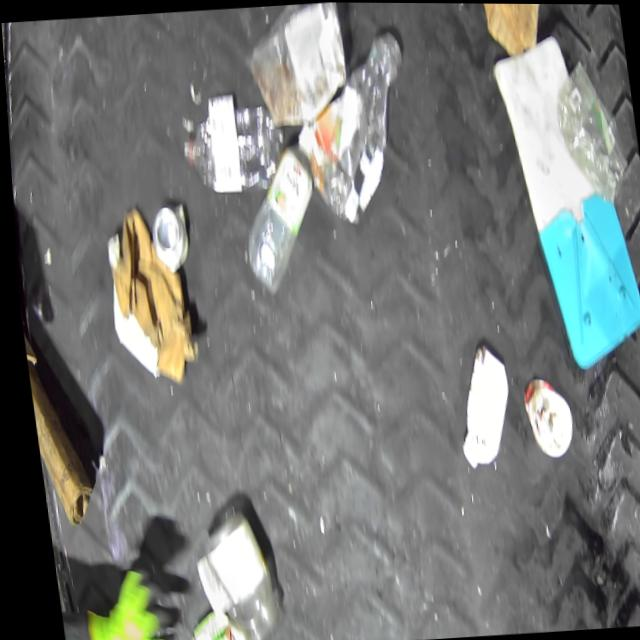can: (512, 372, 570, 459), (143, 198, 192, 272)
plastic_bottle: (287, 24, 422, 228), (174, 99, 286, 197)
